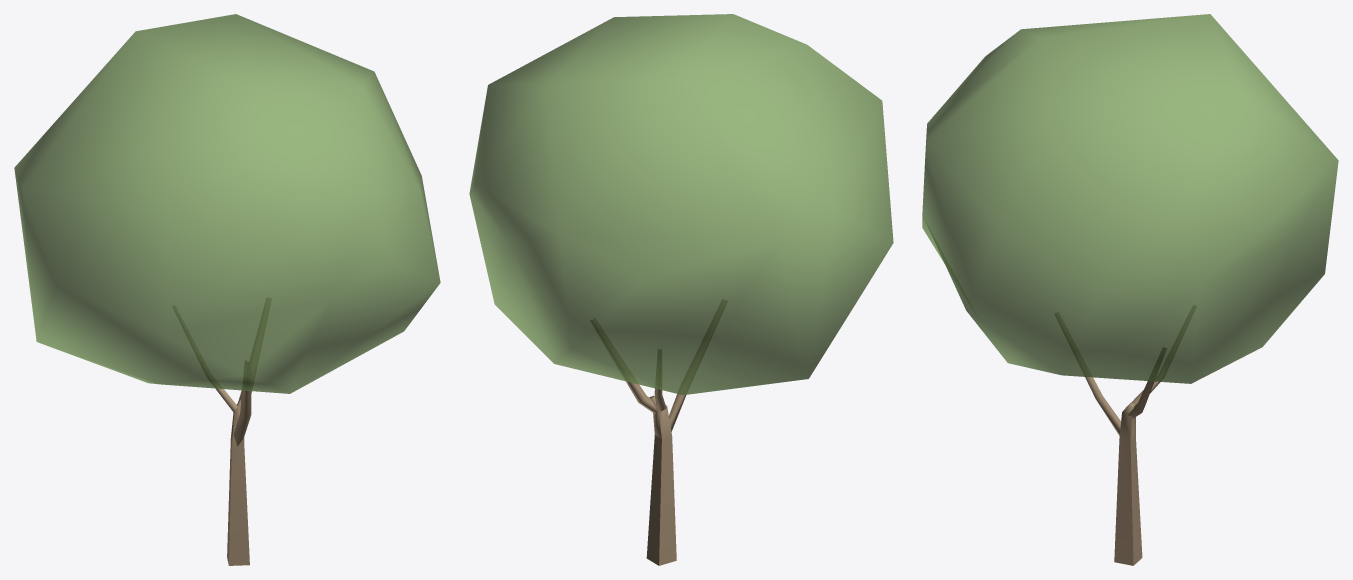
Rendered from tree_typ1_col1.glb.
The picture shows the model from 3 angles, left to right: view 1: azimuth 30°, elevation 25°; view 2: azimuth 150°, elevation 25°; view 3: azimuth 270°, elevation 25°; orthographic projection. The views are drawn at different scales.
Size of the model in its own units: 23.27 by 30.55 by 22.35.
